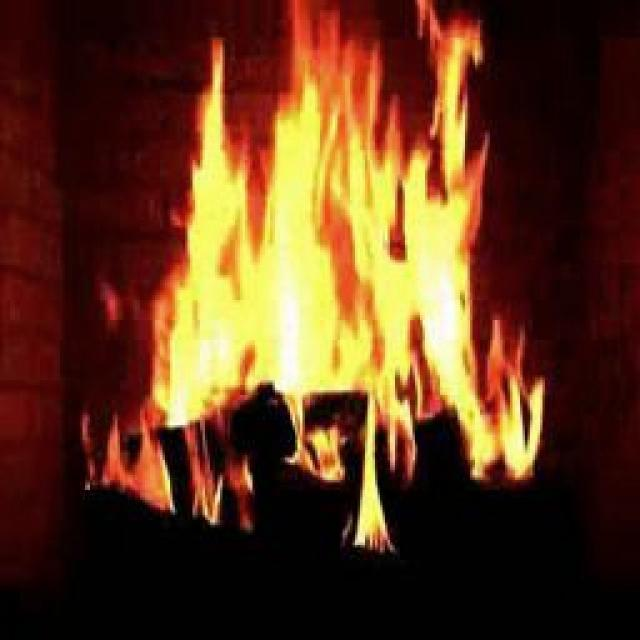Fire: (125, 24, 502, 447)
